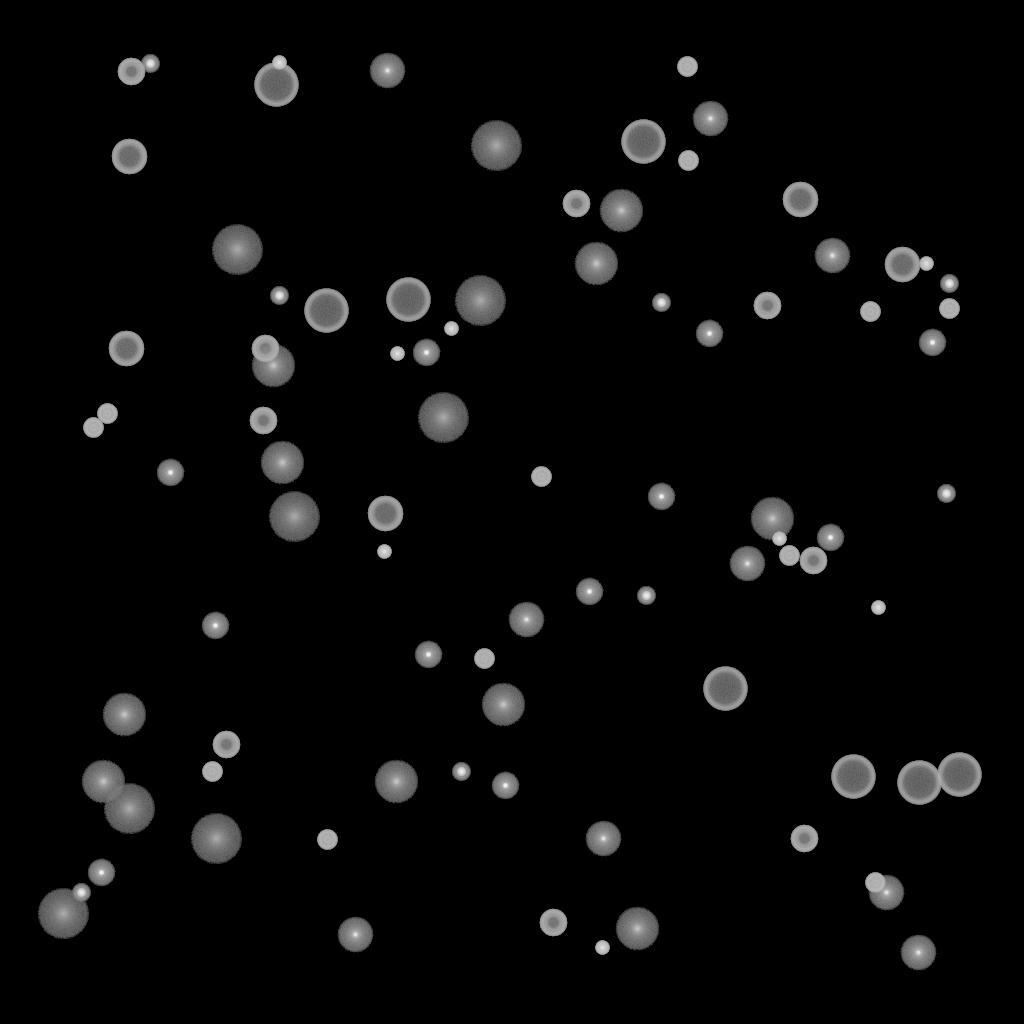depth:-10: (695, 320, 723, 348), (201, 612, 229, 640), (414, 641, 442, 669), (918, 329, 946, 357), (575, 578, 603, 606), (491, 772, 519, 800), (647, 483, 675, 511), (87, 859, 115, 887), (412, 339, 440, 367), (816, 524, 844, 552), (156, 459, 184, 487)
depth:-20: (940, 275, 958, 293), (652, 294, 670, 312), (141, 55, 159, 73), (72, 884, 90, 902), (452, 763, 470, 781), (270, 287, 288, 305), (937, 485, 955, 503), (637, 587, 655, 605)
depth:-30: (390, 347, 404, 361), (772, 532, 786, 546), (871, 601, 885, 615), (444, 322, 458, 336), (595, 941, 609, 955), (919, 257, 933, 271), (272, 56, 286, 70), (377, 545, 391, 559)
depth:-40: (860, 302, 880, 322), (678, 151, 698, 171), (83, 418, 103, 438), (939, 299, 959, 319), (202, 762, 222, 782), (97, 404, 117, 424), (677, 57, 697, 77), (779, 546, 799, 566), (474, 649, 494, 669), (865, 873, 885, 893), (317, 830, 337, 850), (531, 467, 551, 487)
depth:-50: (117, 58, 145, 86), (251, 335, 279, 363), (562, 190, 590, 218), (249, 407, 277, 435), (539, 909, 567, 937), (753, 292, 781, 320), (212, 731, 240, 759), (790, 825, 818, 853), (799, 547, 827, 575)
depth:-60: (782, 182, 818, 218), (111, 139, 147, 175), (884, 247, 920, 283), (367, 496, 403, 532), (108, 331, 144, 367)
depth:-70: (621, 120, 665, 164), (897, 761, 941, 805), (831, 755, 875, 799), (937, 753, 981, 797), (703, 667, 747, 711), (254, 63, 298, 107), (304, 289, 348, 333), (386, 278, 430, 322)
depth:0: (729, 546, 765, 582), (337, 917, 373, 953), (585, 821, 621, 857), (369, 53, 405, 89), (692, 101, 728, 137), (508, 602, 544, 638), (900, 935, 936, 971), (814, 238, 850, 274), (868, 875, 904, 911)
depth:10: (750, 497, 794, 541), (574, 242, 618, 286), (260, 441, 304, 485), (251, 344, 295, 388), (102, 693, 146, 737), (481, 683, 525, 727), (81, 760, 125, 804), (615, 907, 659, 951), (374, 760, 418, 804), (599, 189, 643, 233)
depth:20: (37, 889, 89, 939), (454, 276, 506, 326), (103, 784, 155, 834), (417, 393, 469, 443), (470, 121, 522, 171), (211, 225, 263, 275), (190, 814, 242, 864), (268, 492, 320, 542)
